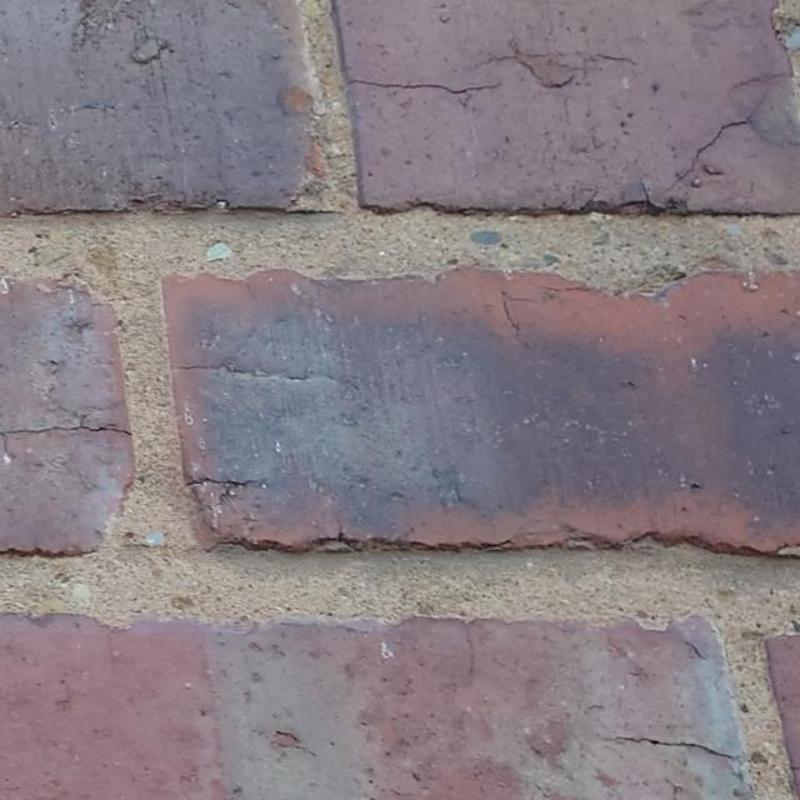pothole: (664, 118, 749, 194), (176, 364, 359, 391), (478, 55, 577, 90), (598, 737, 734, 759), (347, 79, 505, 95), (0, 425, 136, 436), (504, 296, 540, 334), (183, 477, 260, 488)
